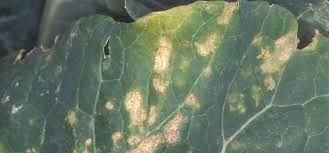Bok-Choy-Diseased: (5, 7, 296, 153)
